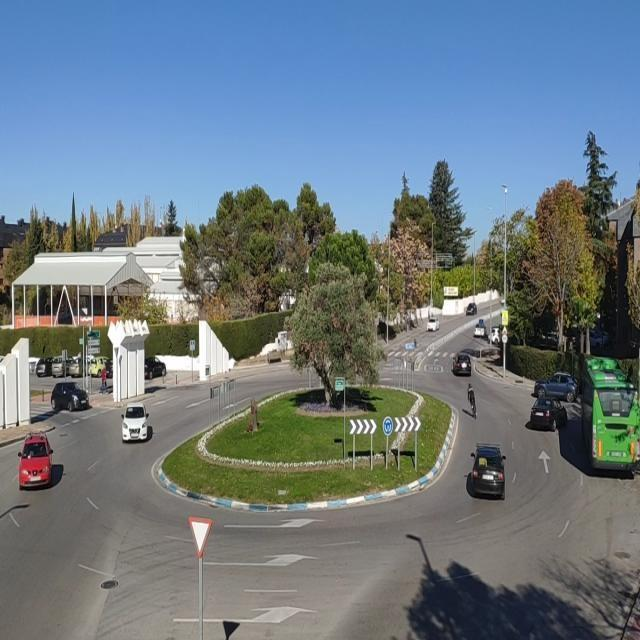Bus: (578, 354, 640, 469)
Car: (469, 444, 507, 498), (18, 432, 54, 488), (528, 396, 568, 430), (534, 372, 578, 402), (51, 382, 91, 412), (120, 404, 150, 442), (50, 354, 74, 378), (66, 355, 90, 378), (451, 353, 473, 377), (87, 356, 111, 378), (144, 357, 166, 379), (35, 356, 56, 377), (590, 328, 610, 349), (474, 320, 488, 338), (490, 326, 503, 345), (426, 316, 438, 332), (104, 356, 112, 378), (466, 302, 477, 316)
Cycle: (466, 395, 478, 419)
